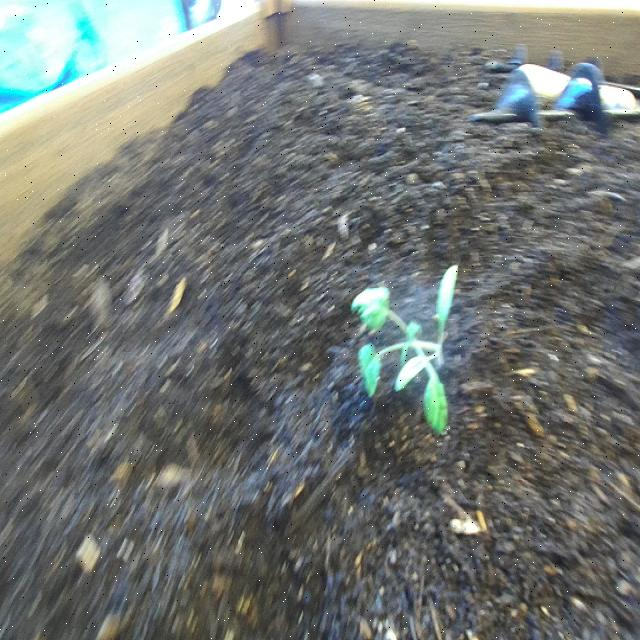Healthy: (350, 259, 459, 441)
